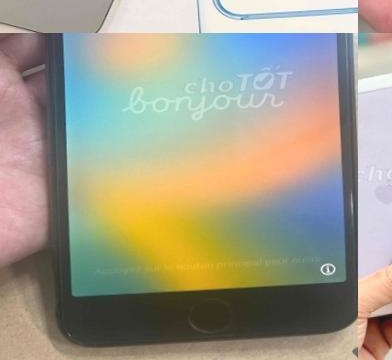scratch: (15, 33, 358, 360)
